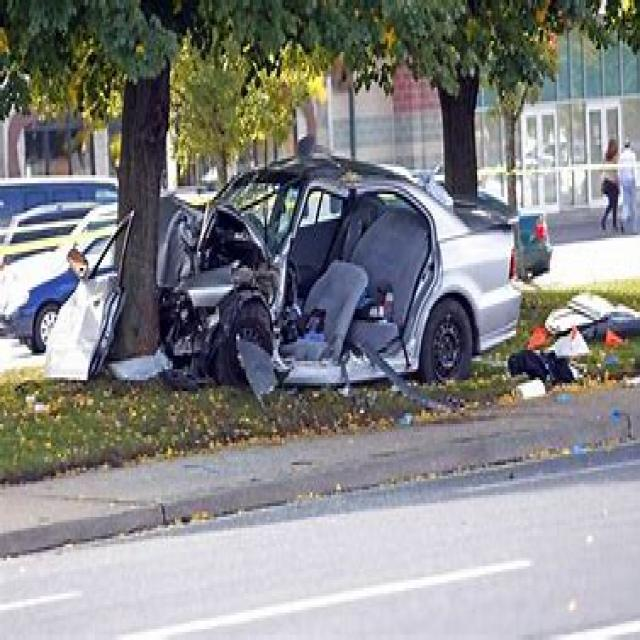Accident: (159, 99, 503, 487)
